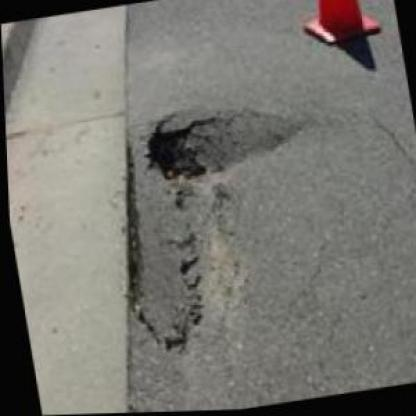pothole: (94, 115, 215, 362), (136, 98, 306, 188)
